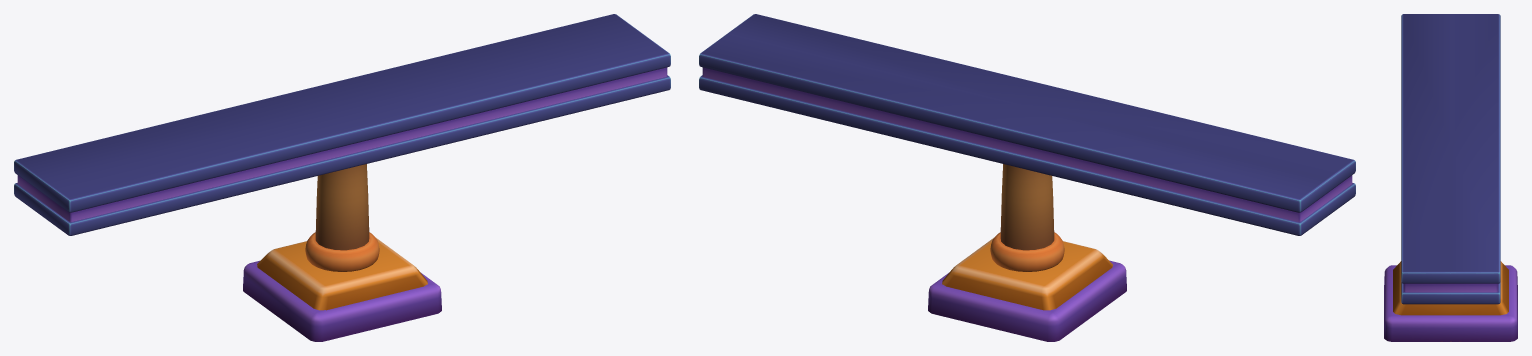
File: Table_2.fbx
3 views of the same model, side by side, from view 1: azimuth 30°, elevation 25°; view 2: azimuth 150°, elevation 25°; view 3: azimuth 270°, elevation 25° (orthographic). The views are drawn at different scales.
Parts seen in each view (by area): view 1: mdl_Table_01_5, mdl_Table_01_9, Wood, Metal; view 2: mdl_Table_01_5, mdl_Table_01_9, Wood, Metal; view 3: mdl_Table_01_5, mdl_Table_01_9.
Boxes of the visible parts, x1,y1,x2,y2 form: mdl_Table_01_5: (14, 14, 670, 235); mdl_Table_01_9: (243, 237, 441, 341); Wood: (315, 164, 369, 250); Metal: (305, 232, 379, 271); mdl_Table_01_5: (699, 14, 1355, 235); mdl_Table_01_9: (928, 237, 1126, 341); Wood: (1000, 164, 1054, 250); Metal: (990, 232, 1064, 271); mdl_Table_01_5: (1401, 14, 1500, 304); mdl_Table_01_9: (1384, 261, 1517, 341).
Bounding box in the file's own units: 620 × 190 × 135.
1 material, 1 textured.
